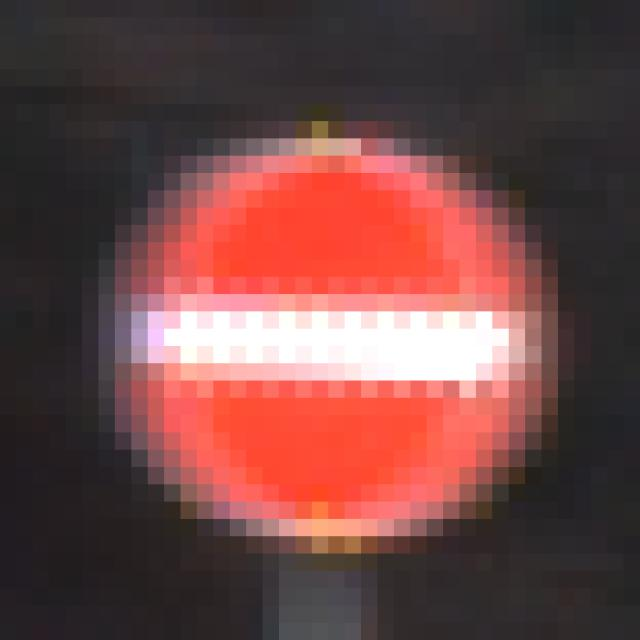No Entry: (83, 88, 559, 555)
